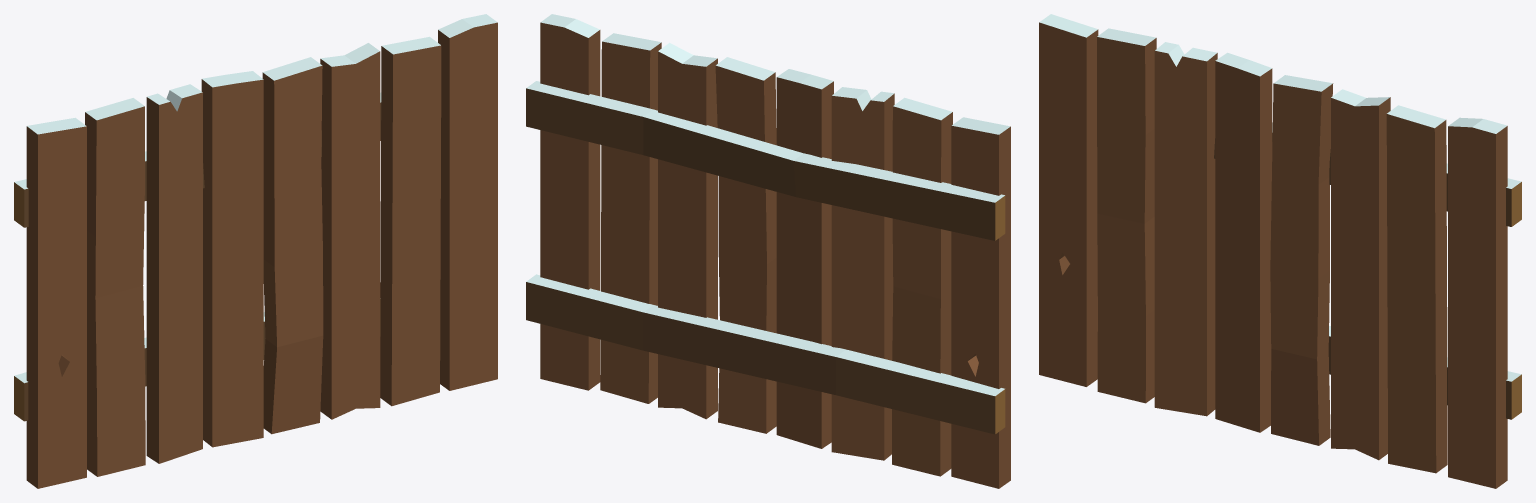
Rendered from fence-picket.glb.
3 views of the same model, side by side, from view 1: azimuth 30°, elevation 25°; view 2: azimuth 150°, elevation 25°; view 3: azimuth 330°, elevation 25° (orthographic).
Visible parts, largest first — view 1: fence-classic-snow; view 2: fence-classic-snow; view 3: fence-classic-snow.
Part boxes in pixels (x1=…): fence-classic-snow: x1=14, y1=14, x2=497, y2=488; fence-classic-snow: x1=526, y1=14, x2=1010, y2=488; fence-classic-snow: x1=1039, y1=14, x2=1521, y2=488.
Size of the model in its own units: 2 by 1.47 by 0.1922.
